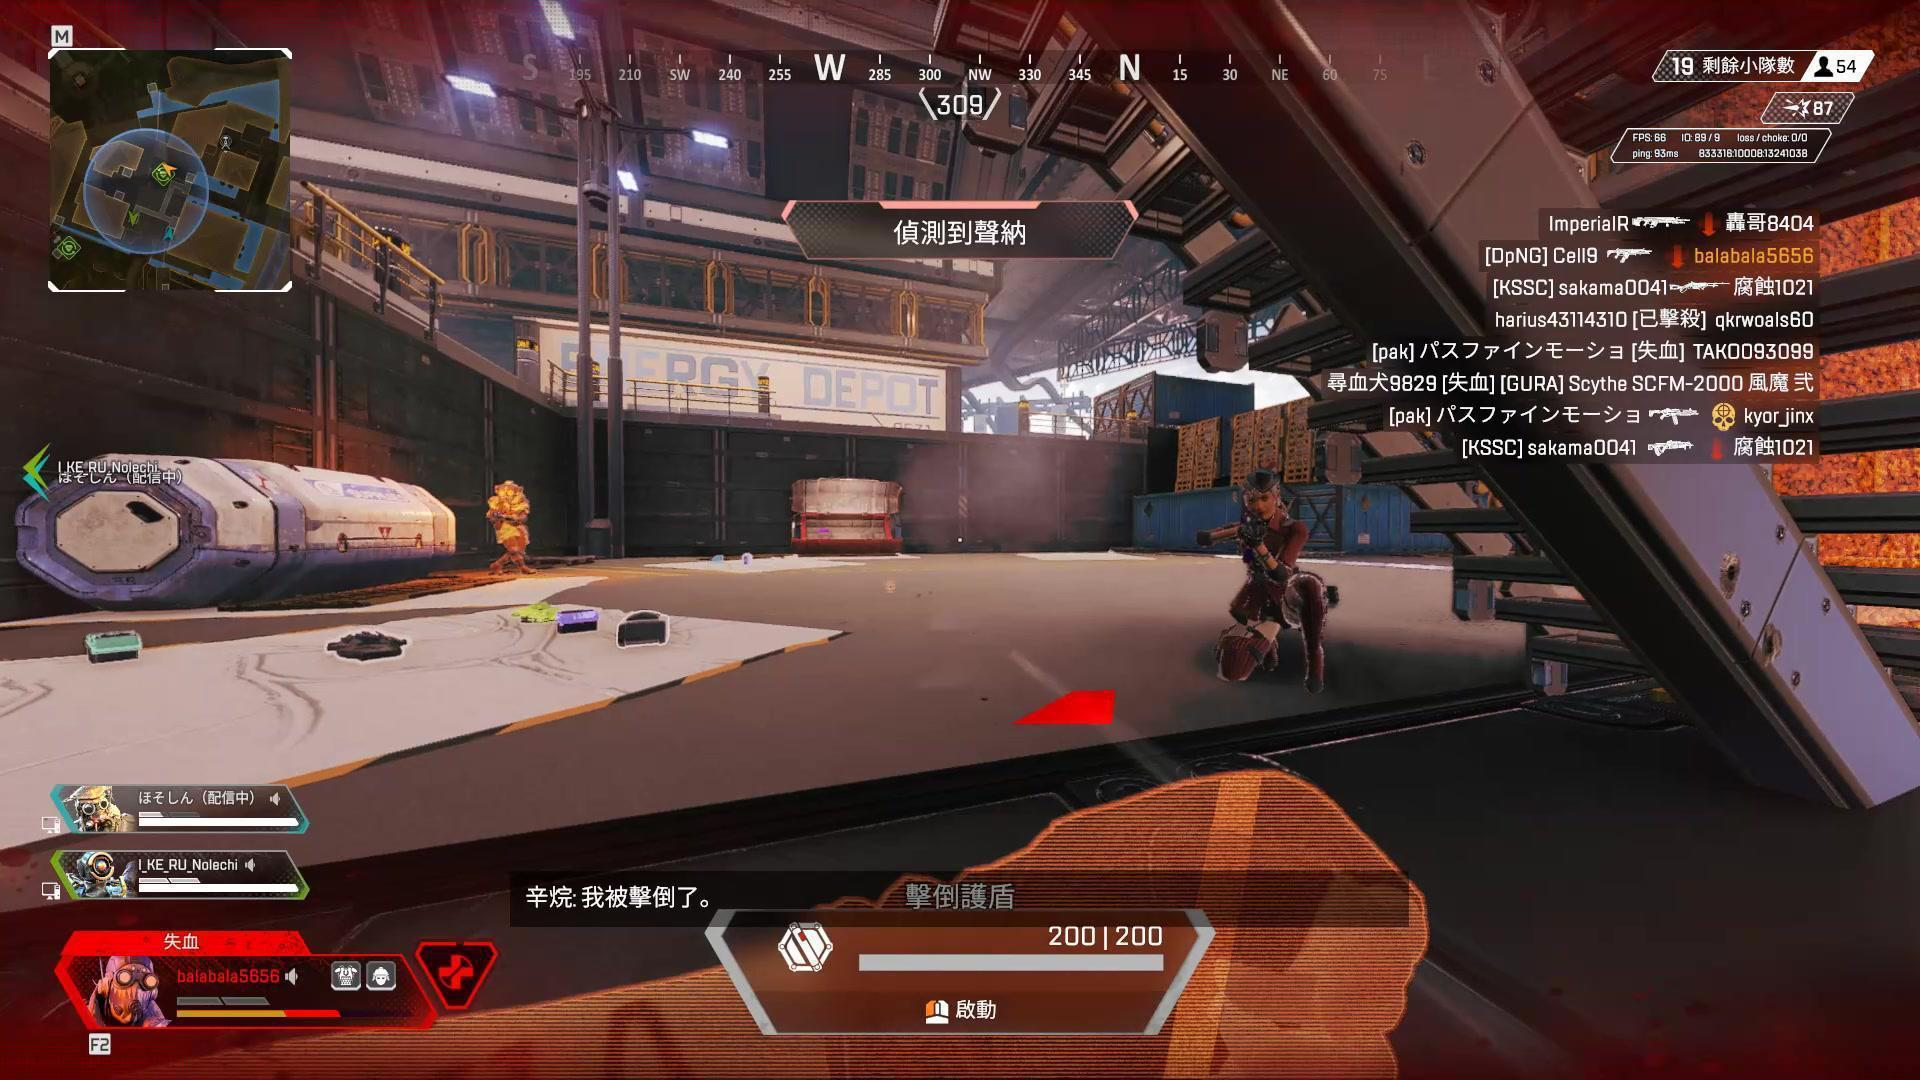avatar: (1195, 466, 1334, 697), (484, 476, 533, 577)
